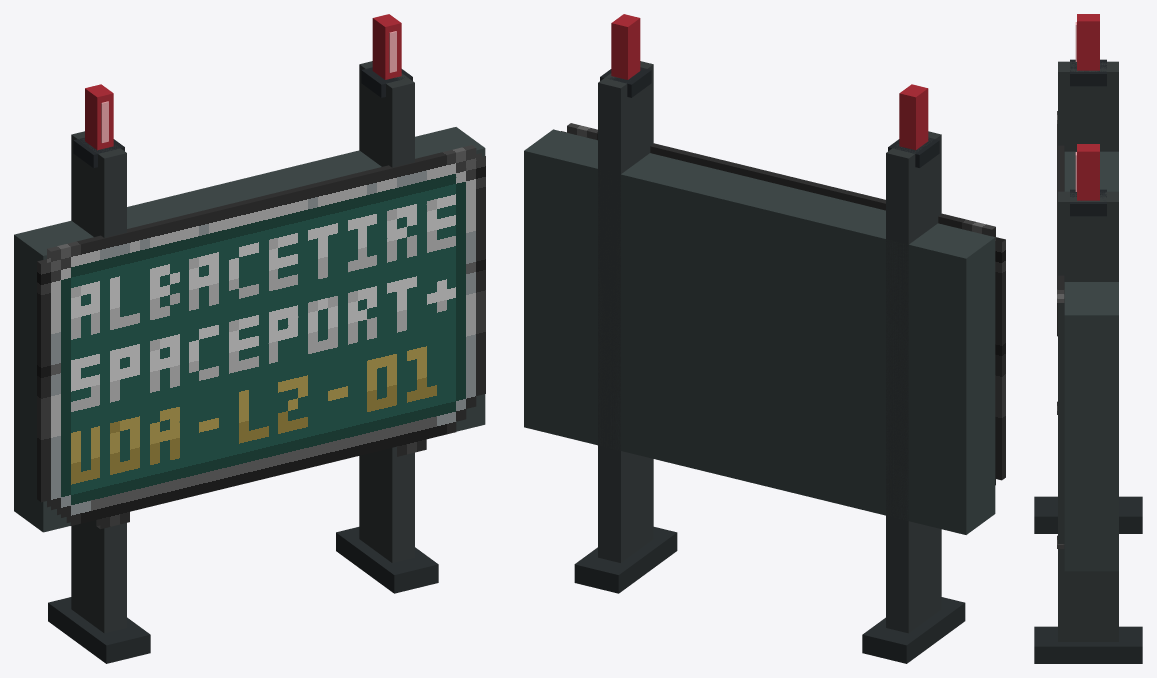
Rendered from CMU3DPrintedAU14LandingSignStableSpacePort.glb.
The picture shows the model from 3 angles, left to right: view 1: azimuth 30°, elevation 25°; view 2: azimuth 150°, elevation 25°; view 3: azimuth 270°, elevation 25°; orthographic projection. The views are drawn at different scales.
Parts seen in each view (by area): view 1: original entrance display, steel stand leg (×2), rear sign housing, wide ground foot (×2), red beacon lens (×2); view 2: rear sign housing, steel stand leg (×2), wide ground foot (×2), original entrance display, red beacon lens (×2); view 3: rear sign housing, steel stand leg (×2), wide ground foot (×2), red beacon lens (×2), beacon dark socket (×2), original entrance display.
Boxes of the visible parts, x1,y1,x2,y2 form: original entrance display: (37,145,485,529); steel stand leg (×2): (71,61,414,633); rear sign housing: (14,127,485,532); wide ground foot (×2): (48,527,438,663); red beacon lens (×2): (85,14,401,150); rear sign housing: (524,129,995,534); steel stand leg (×2): (598,61,941,633); wide ground foot (×2): (574,527,965,663); original entrance display: (561,123,1005,485); red beacon lens (×2): (611,14,928,150); rear sign housing: (1064,151,1118,571); steel stand leg (×2): (1058,61,1118,641); wide ground foot (×2): (1034,496,1142,663); red beacon lens (×2): (1077,14,1099,200); beacon dark socket (×2): (1070,59,1106,216); original entrance display: (1057,111,1064,548).
Bounding box in the file's own units: 1.44 × 1.65 × 0.32.
Materials: 7 (1 with a texture image).
